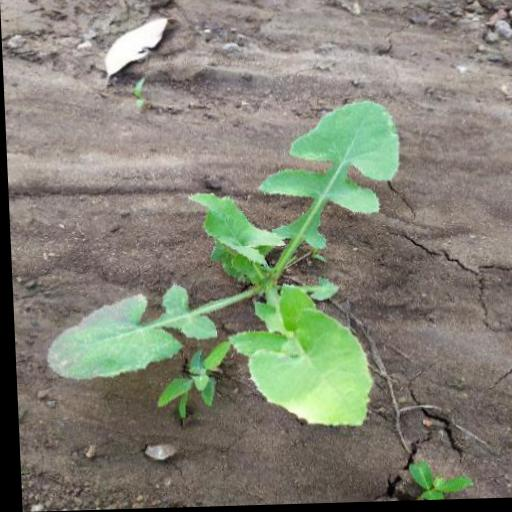weed: (32, 92, 425, 438)
